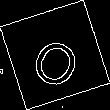O_NE: (24, 23, 86, 87)
